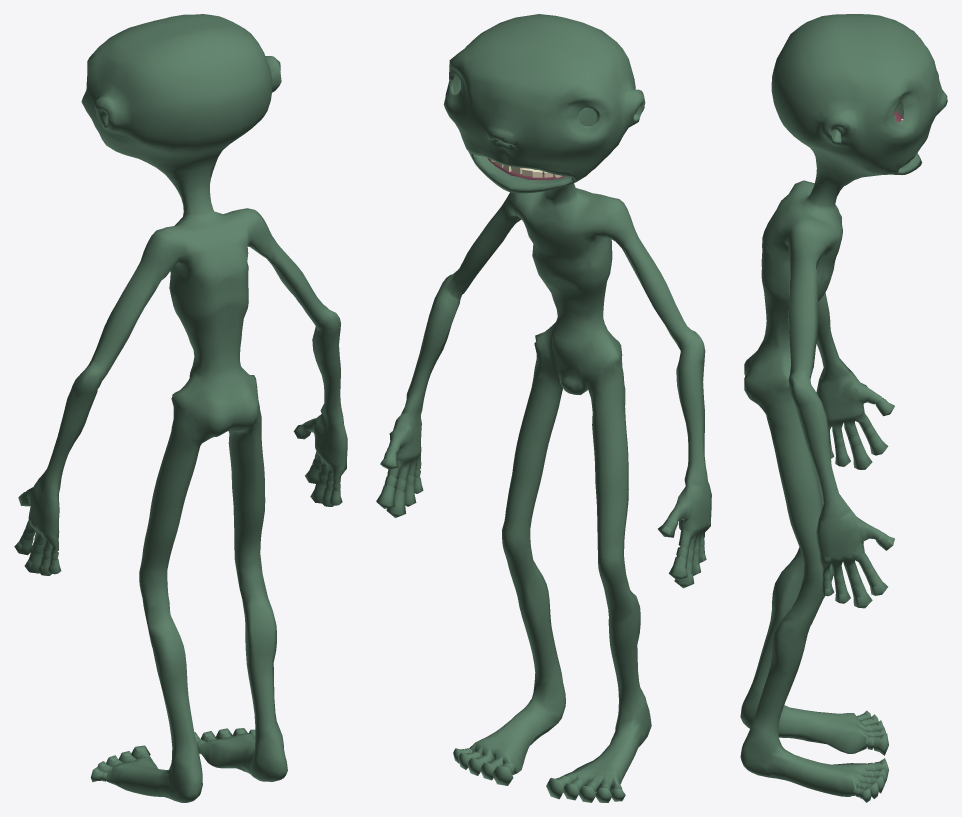
File: body.obj
3 renders of one model, left to right at view 1: azimuth 30°, elevation 25°; view 2: azimuth 150°, elevation 25°; view 3: azimuth 270°, elevation 25°, orthographic.
Parts seen in each view (by area): view 1: polySurface21; view 2: polySurface21; view 3: polySurface21.
Boxes of the visible parts, x1,y1,x2,y2 form: polySurface21: [14, 14, 347, 802]; polySurface21: [376, 14, 711, 802]; polySurface21: [740, 14, 947, 802].
Bounding box in the file's own units: 110 × 257 × 64.85.
